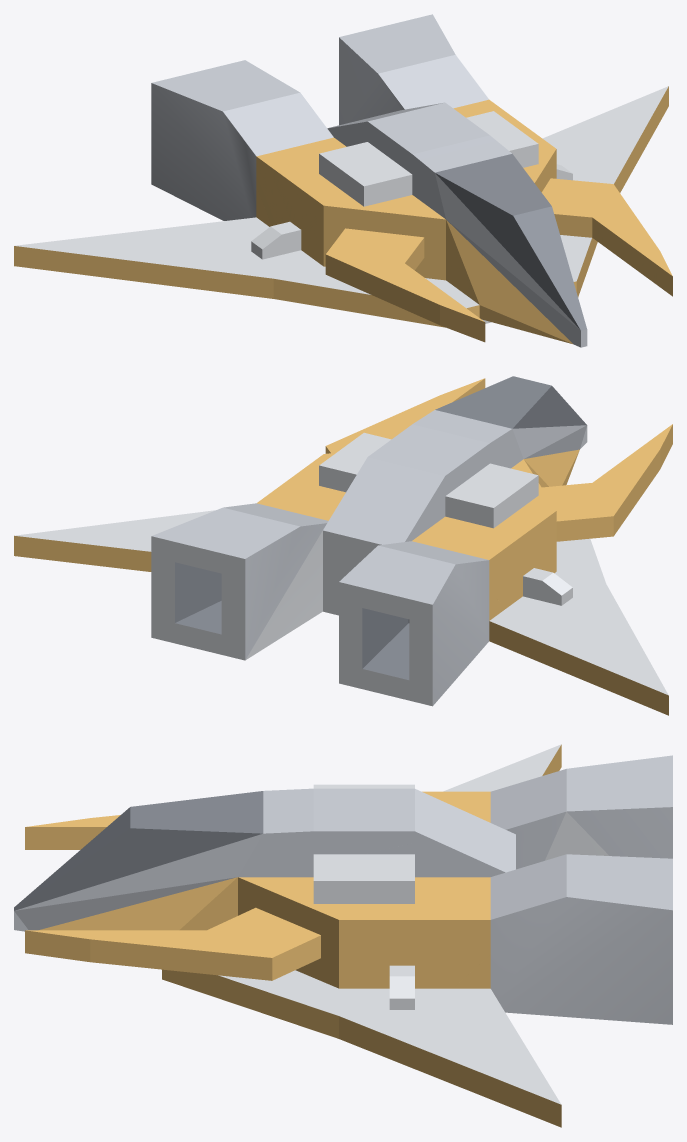
Rendered from craft_spiked_var2.fbx.
3 renders of one model, top to bottom at view 1: azimuth 30°, elevation 25°; view 2: azimuth 150°, elevation 25°; view 3: azimuth 270°, elevation 25°, orthographic. The views are drawn at different scales.
Parts seen in each view (by area): view 1: craft_speederB; view 2: craft_speederB; view 3: craft_speederB.
Boxes of the visible parts, x1,y1,x2,y2 form: craft_speederB: (14, 14, 672, 347); craft_speederB: (14, 376, 672, 715); craft_speederB: (14, 744, 672, 1127).
Size of the model in its own units: 337 by 60 by 261.
